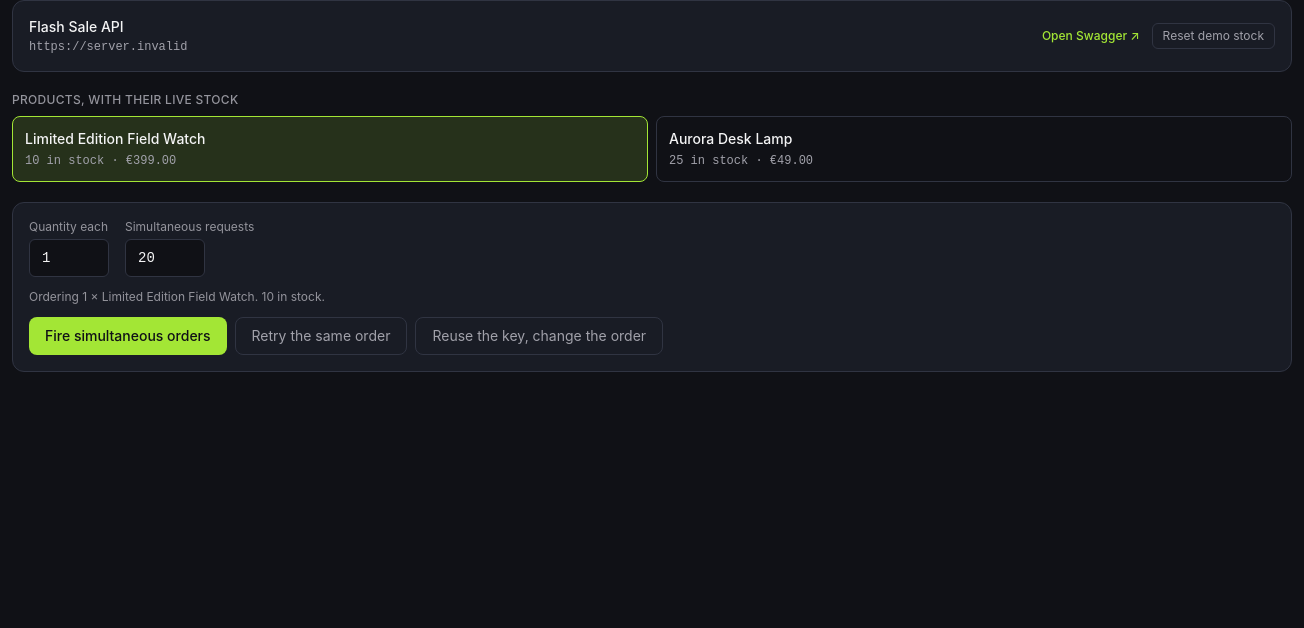
Test case: FlashSaleLab › reports how many succeeded and how many were sold out
Expected: the text "Aurora Desk Lamp" is shown, [669, 130, 792, 147]
Replace the text in the number field labelled "Simultaneous requests" with "3" at (165, 258), box [125, 239, 205, 277]
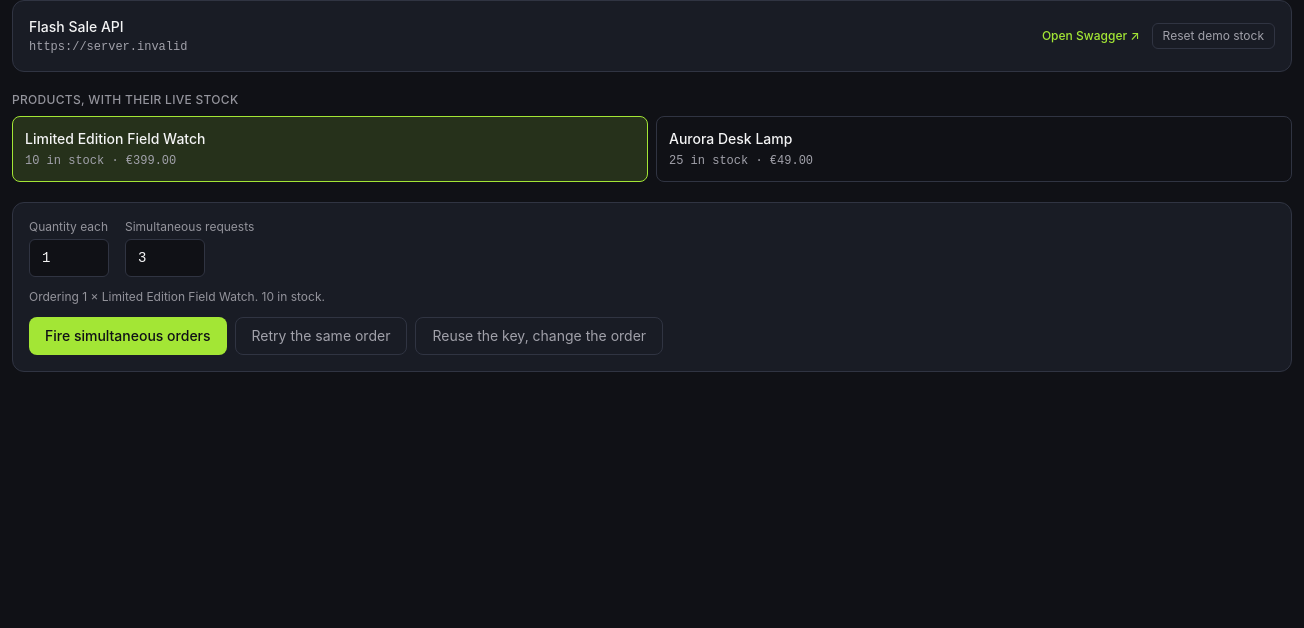
Click the button "Fire simultaneous orders".
click(128, 336)  # box [29, 317, 227, 355]
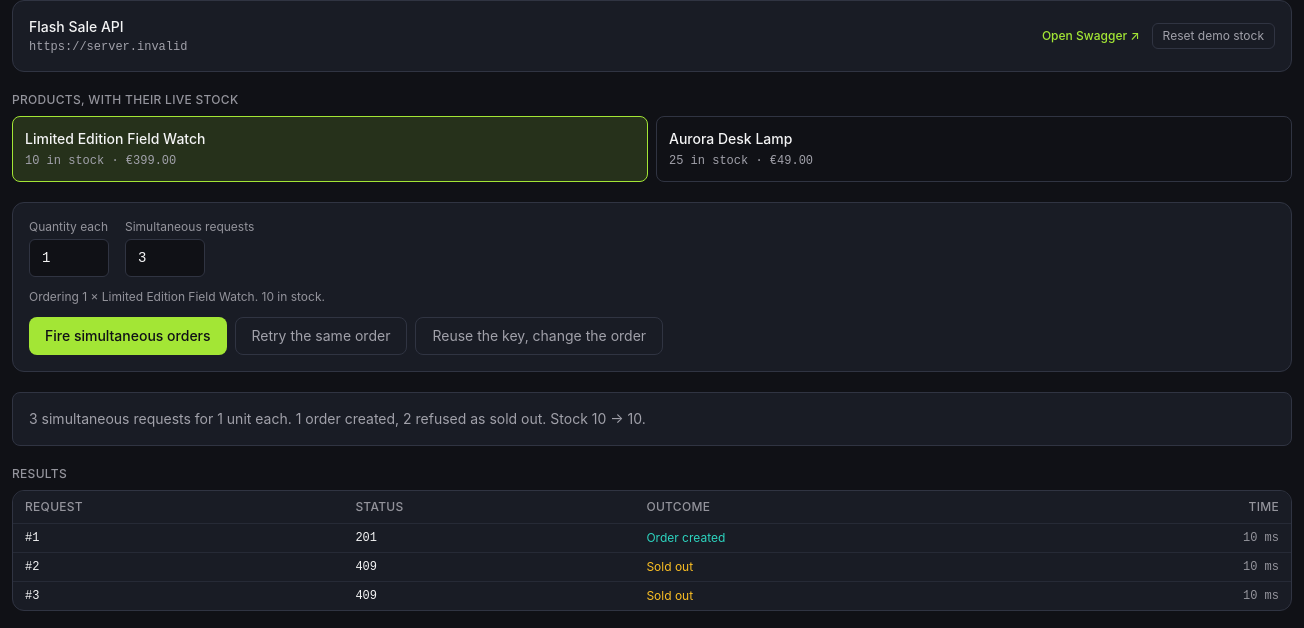
Expected: the text "1 order created, 2 refused as sold out" is shown, [29, 410, 646, 427]
